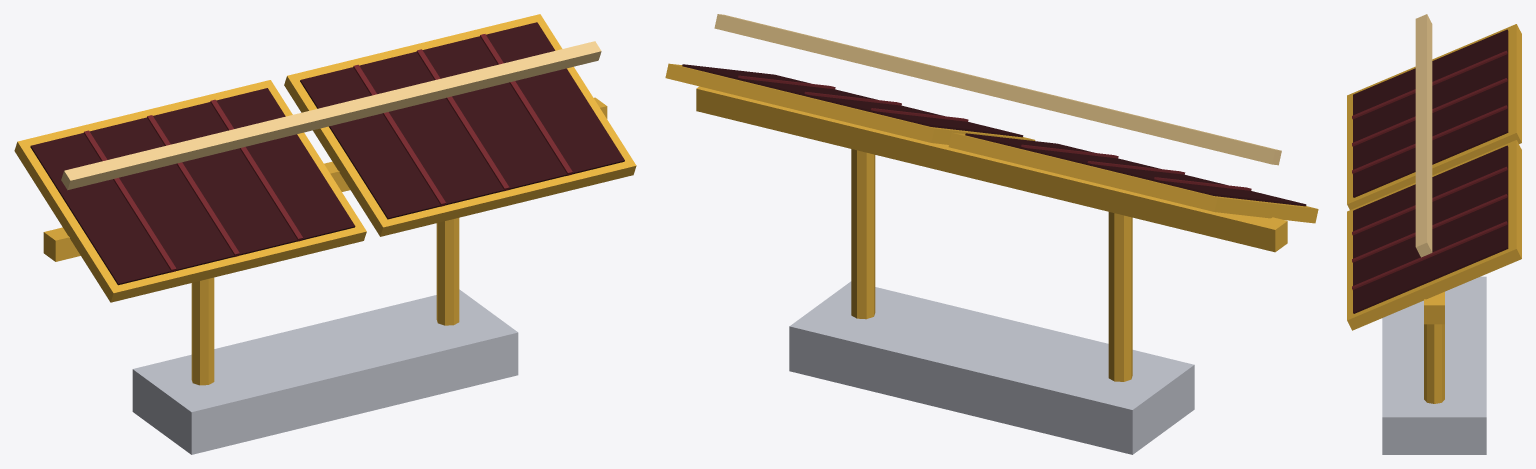
File: painel-solar-n2.glb
3 views of the same model, side by side, from view 1: azimuth 30°, elevation 25°; view 2: azimuth 150°, elevation 25°; view 3: azimuth 270°, elevation 25° (orthographic). The views are drawn at different scales.
Visible parts, largest first — view 1: painel-solar-n2; view 2: painel-solar-n2; view 3: painel-solar-n2.
Part boxes in pixels (left/top/right/bottom): painel-solar-n2: left=14, top=14, right=636, bottom=454; painel-solar-n2: left=665, top=14, right=1318, bottom=454; painel-solar-n2: left=1347, top=14, right=1521, bottom=454.
Size of the model in its own units: 4.32 by 2.18 by 1.35.
